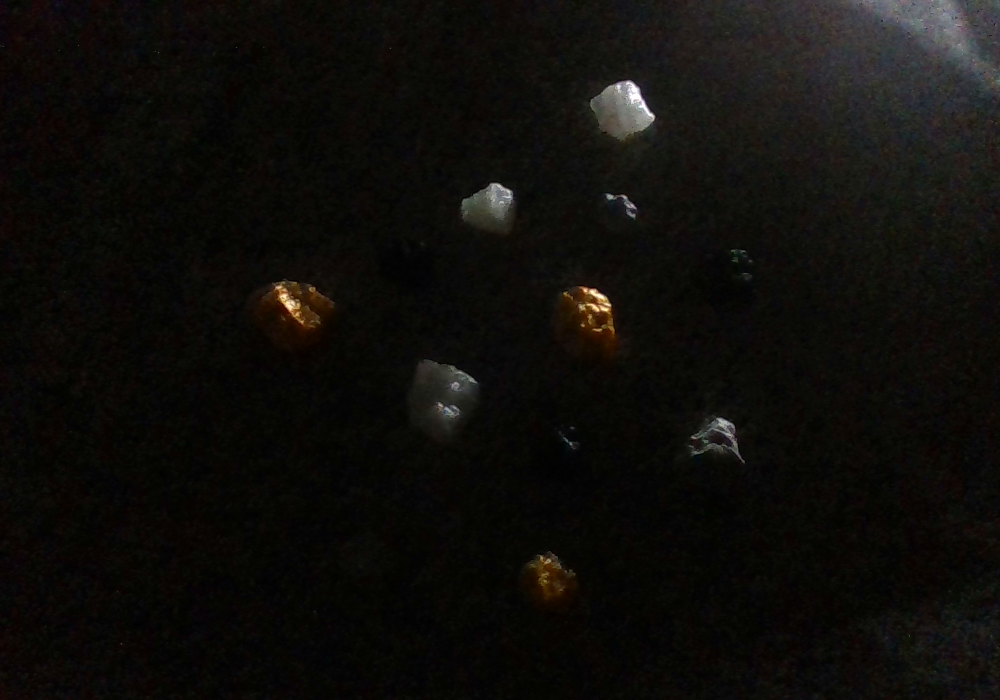anorthosite: (406, 358, 481, 447), (590, 80, 655, 139), (460, 183, 517, 235)
basalt: (698, 249, 756, 307), (529, 424, 583, 482), (376, 237, 433, 288)
metal: (242, 277, 337, 353), (550, 285, 614, 364), (518, 550, 579, 615)
regolith: (671, 417, 747, 493), (337, 528, 398, 591), (589, 194, 637, 238)
